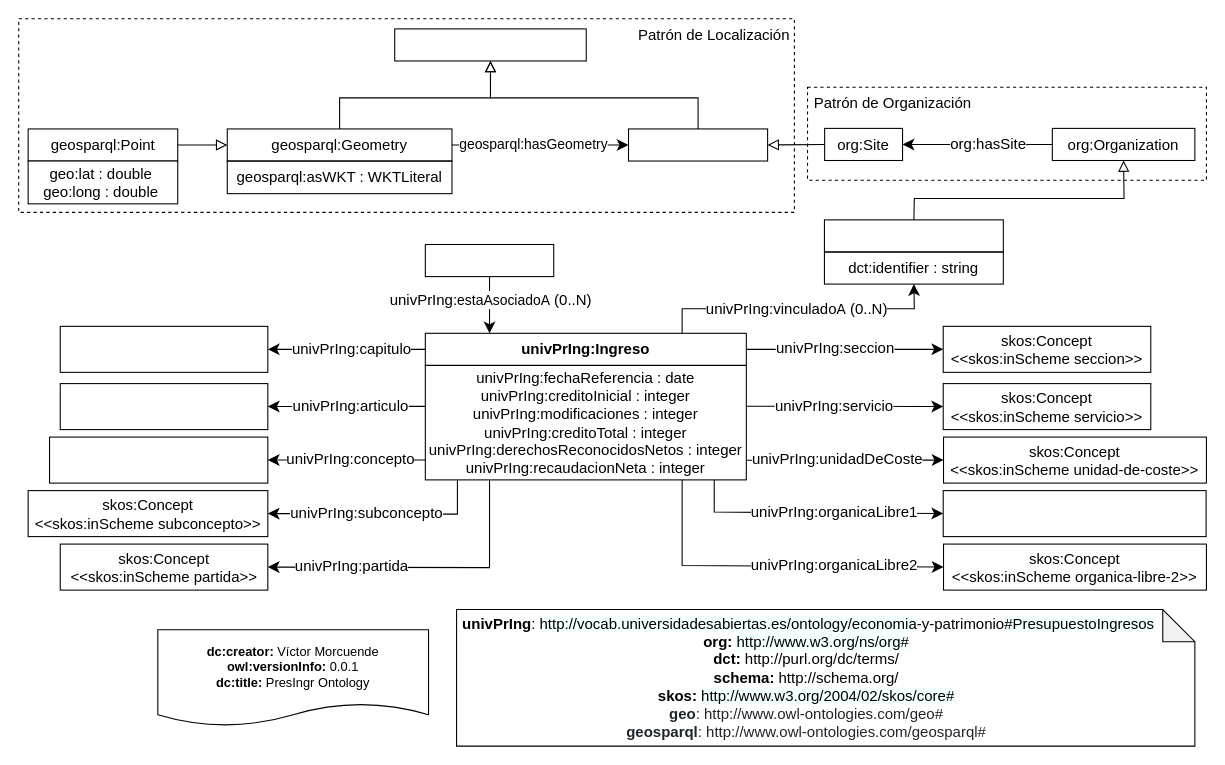
This 1225x765 diagram has some shape labels left out. The shapes that lost their labels are listed below. From the top down, each one's centre as x and y in pixels, then its label:
point (490, 44): geosparql:SpatialObject
point (697, 144): geosparql:Feature
point (913, 235): univPrIng :Universidad
point (489, 260): univPrIng:Anio
point (163, 348): skos:Concept <<skos:inScheme capitulo>>
point (163, 406): skos:Concept <<skos:inScheme articulo>>
point (158, 459): skos:Concept <<skos:inScheme concepto>>
point (1074, 513): skos:Concept <<skos:inScheme organica-libre-1>>
